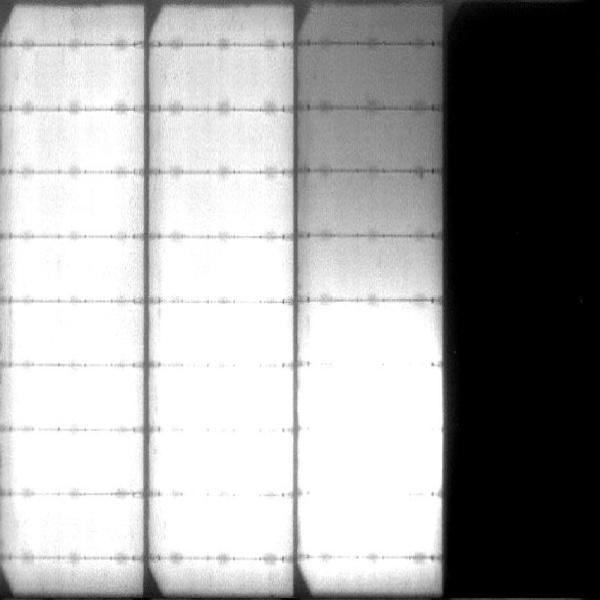hot_spot: (307, 495, 438, 558), (161, 497, 288, 558), (307, 368, 436, 427), (308, 432, 432, 492), (18, 370, 139, 422), (163, 373, 288, 422), (160, 311, 285, 360), (164, 435, 287, 484), (26, 498, 134, 551), (312, 308, 425, 357), (16, 308, 118, 360), (23, 438, 134, 485), (171, 251, 281, 295), (21, 245, 114, 289)
no_electricity: (446, 10, 600, 597)
